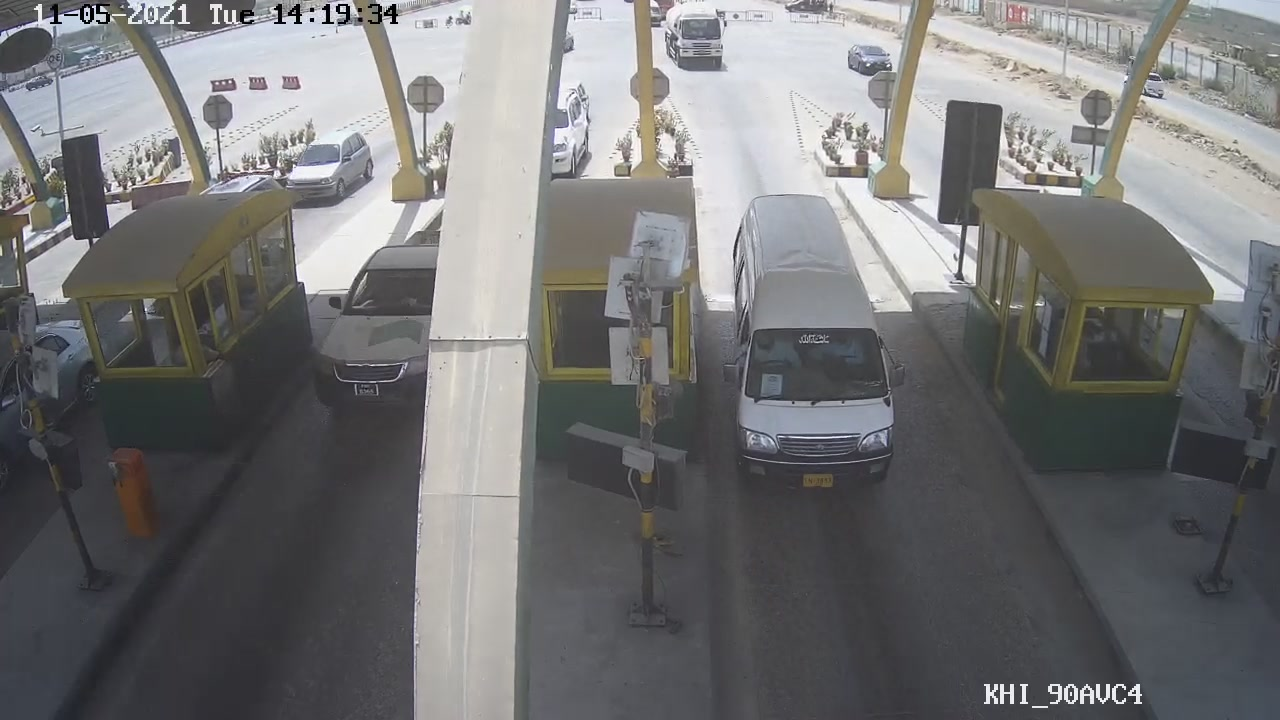F2: (721, 188, 901, 491)
